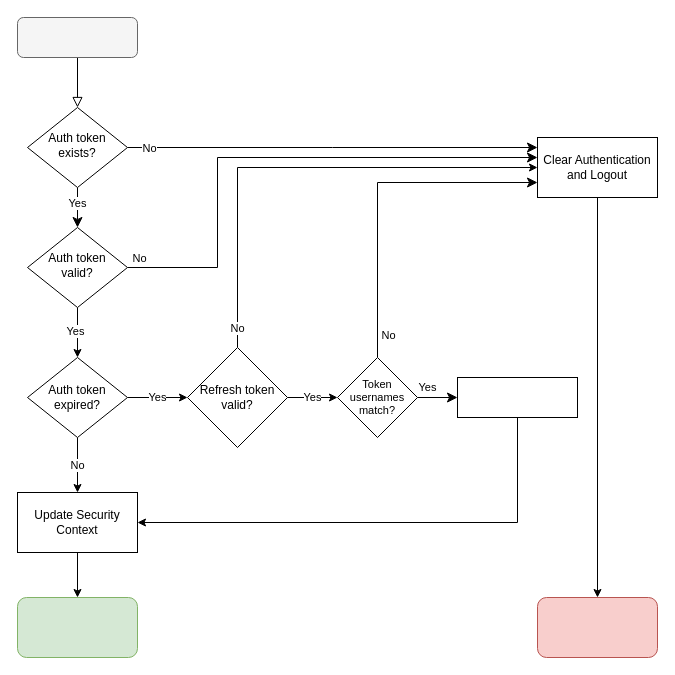
Some shapes in this 675 by 675 pixel diagram are drawn without their labels. The shapes that lost their labels are listed below. From the top down, each one's centre as x and y in pixels, then its label:
At [77,37]: "Incoming HTTP Request".
At [517,397]: "Refresh Auth Token".
At [77,627]: "Process Request".
At [597,627]: "Deny Access/ Redirect to Login".
